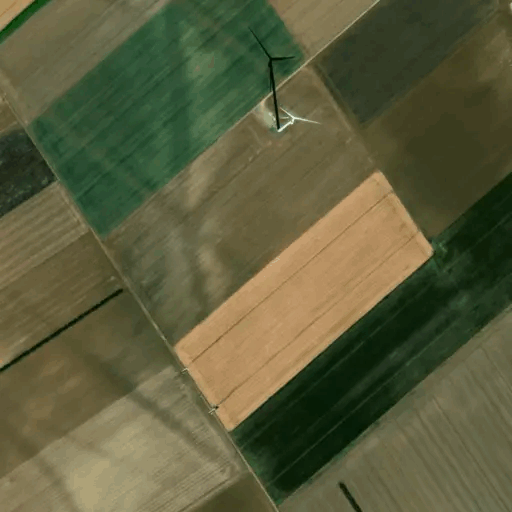wt: (240, 12, 325, 158)
